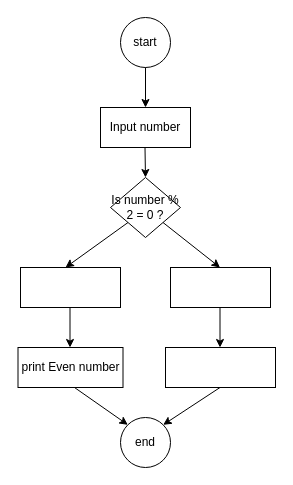
Image size: 293x485. Some labels were removed from this diagram. The shapes that lost their labels are listed below. From the top down, each one's box as (x1, y1, x2, y2) in pixels, then its label:
(20, 266, 120, 308): yes
(170, 266, 270, 308): no
(164, 346, 276, 388): print Odd number
